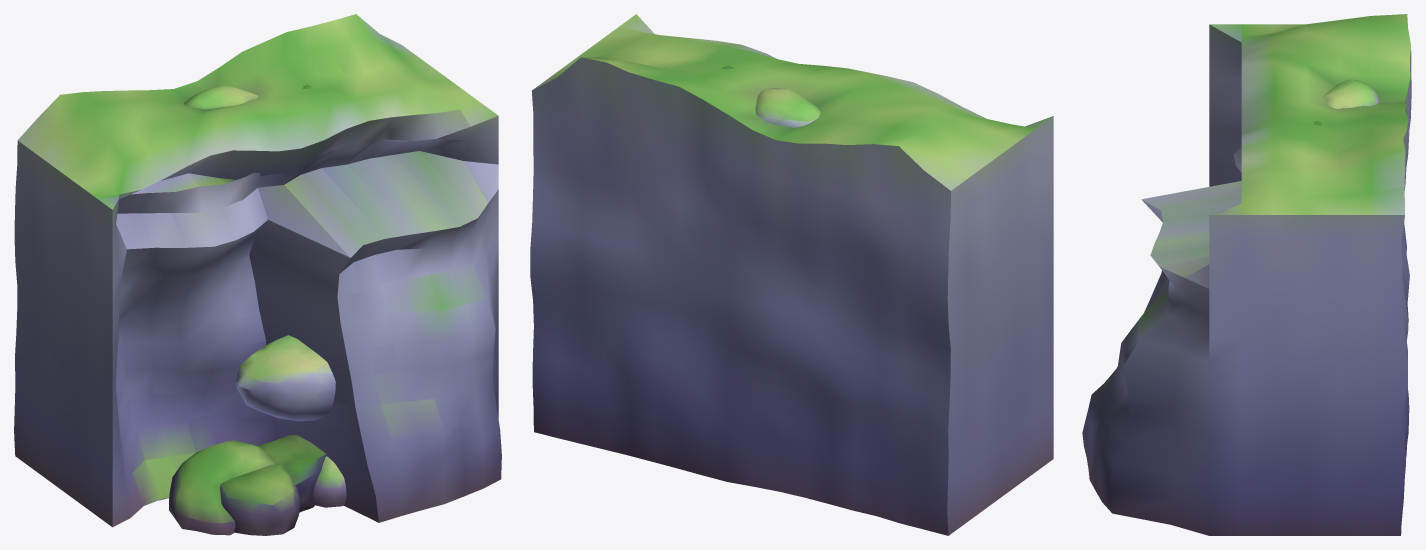
The model's file is verdant_cliff_wall_a.glb.
3 views of the same model, side by side, from view 1: azimuth 30°, elevation 25°; view 2: azimuth 150°, elevation 25°; view 3: azimuth 270°, elevation 25° (orthographic). The views are drawn at different scales.
Visible parts, largest first — view 1: verdant_cliff_wall_a; view 2: verdant_cliff_wall_a; view 3: verdant_cliff_wall_a.
Boxes of the visible parts, left/top/right/bottom form: verdant_cliff_wall_a: left=14, top=14, right=501, bottom=535; verdant_cliff_wall_a: left=530, top=14, right=1053, bottom=535; verdant_cliff_wall_a: left=1082, top=14, right=1411, bottom=535.
Size of the model in its own units: 14 by 12.61 by 10.23.
